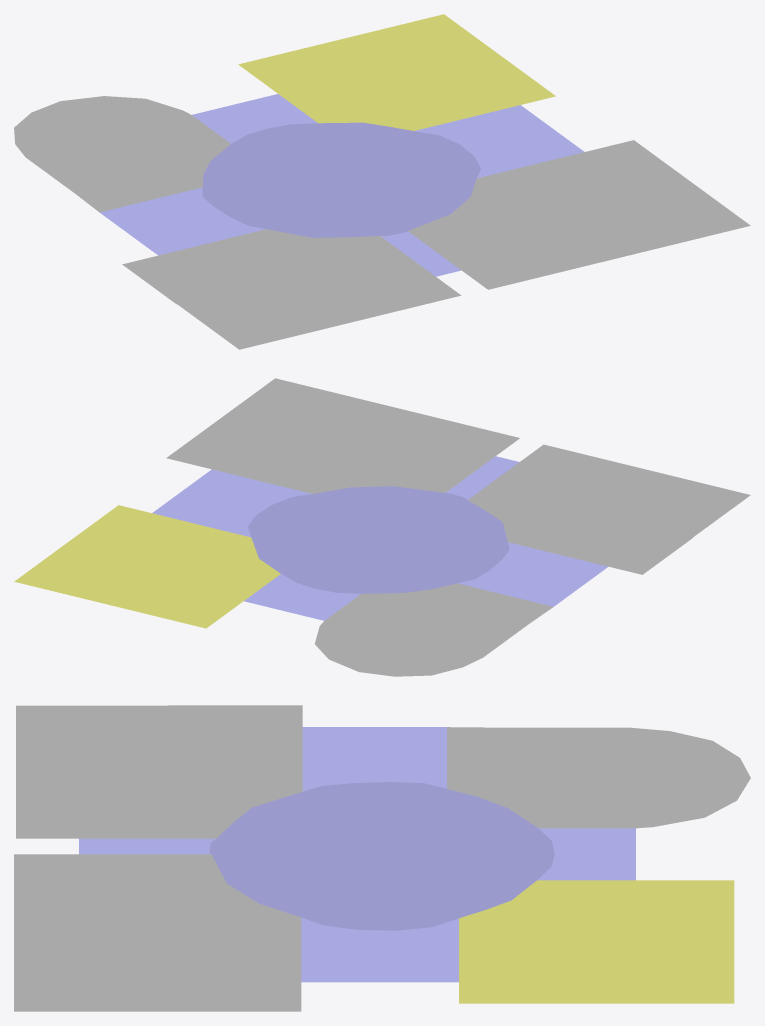
File: Ground.fbx
3 views of the same model, one above another, from view 1: azimuth 30°, elevation 25°; view 2: azimuth 150°, elevation 25°; view 3: azimuth 270°, elevation 25° (orthographic). The views are drawn at different scales.
Parts seen in each view (by area): view 1: Main_Hall, Arcade_And_Reading, Kitchen_Dining, Hallways, Garden, Bedrooms; view 2: Main_Hall, Arcade_And_Reading, Kitchen_Dining, Hallways, Garden, Bedrooms; view 3: Main_Hall, Arcade_And_Reading, Kitchen_Dining, Hallways, Garden, Bedrooms.
Part boxes in pixels (x1,y1,x2,y2): Main_Hall: (100,94,584,276); Arcade_And_Reading: (122,229,461,349); Kitchen_Dining: (238,14,555,130); Hallways: (408,140,750,289); Garden: (14,96,230,212); Bedrooms: (455,181,697,268); Main_Hall: (152,456,608,620); Arcade_And_Reading: (468,444,750,574); Kitchen_Dining: (14,505,280,628); Hallways: (166,378,519,493); Garden: (315,583,553,676); Bedrooms: (240,398,473,475); Main_Hall: (79,727,635,982); Arcade_And_Reading: (16,705,302,838); Kitchen_Dining: (459,880,734,1003); Hallways: (14,854,301,1011); Garden: (447,727,750,828); Bedrooms: (58,873,192,990).
Bounding box in the file's own units: 95.95 × 0 × 97.61.
